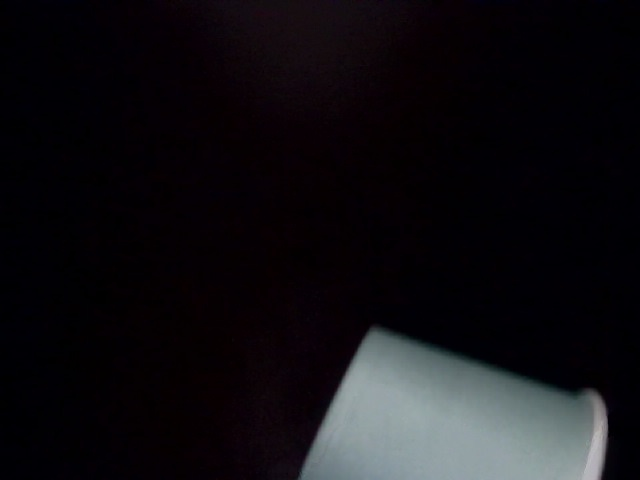KHSLJ: (164, 249, 640, 475)
